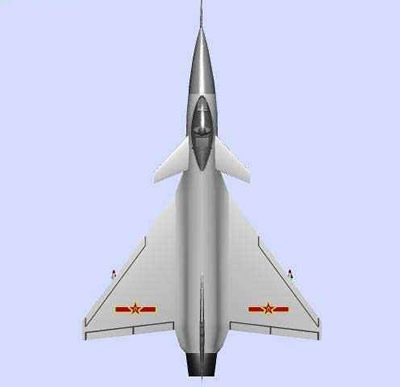airplane: (79, 4, 324, 379)
